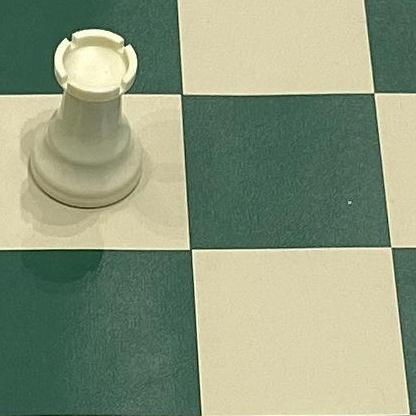white-rook: (23, 26, 151, 211)
